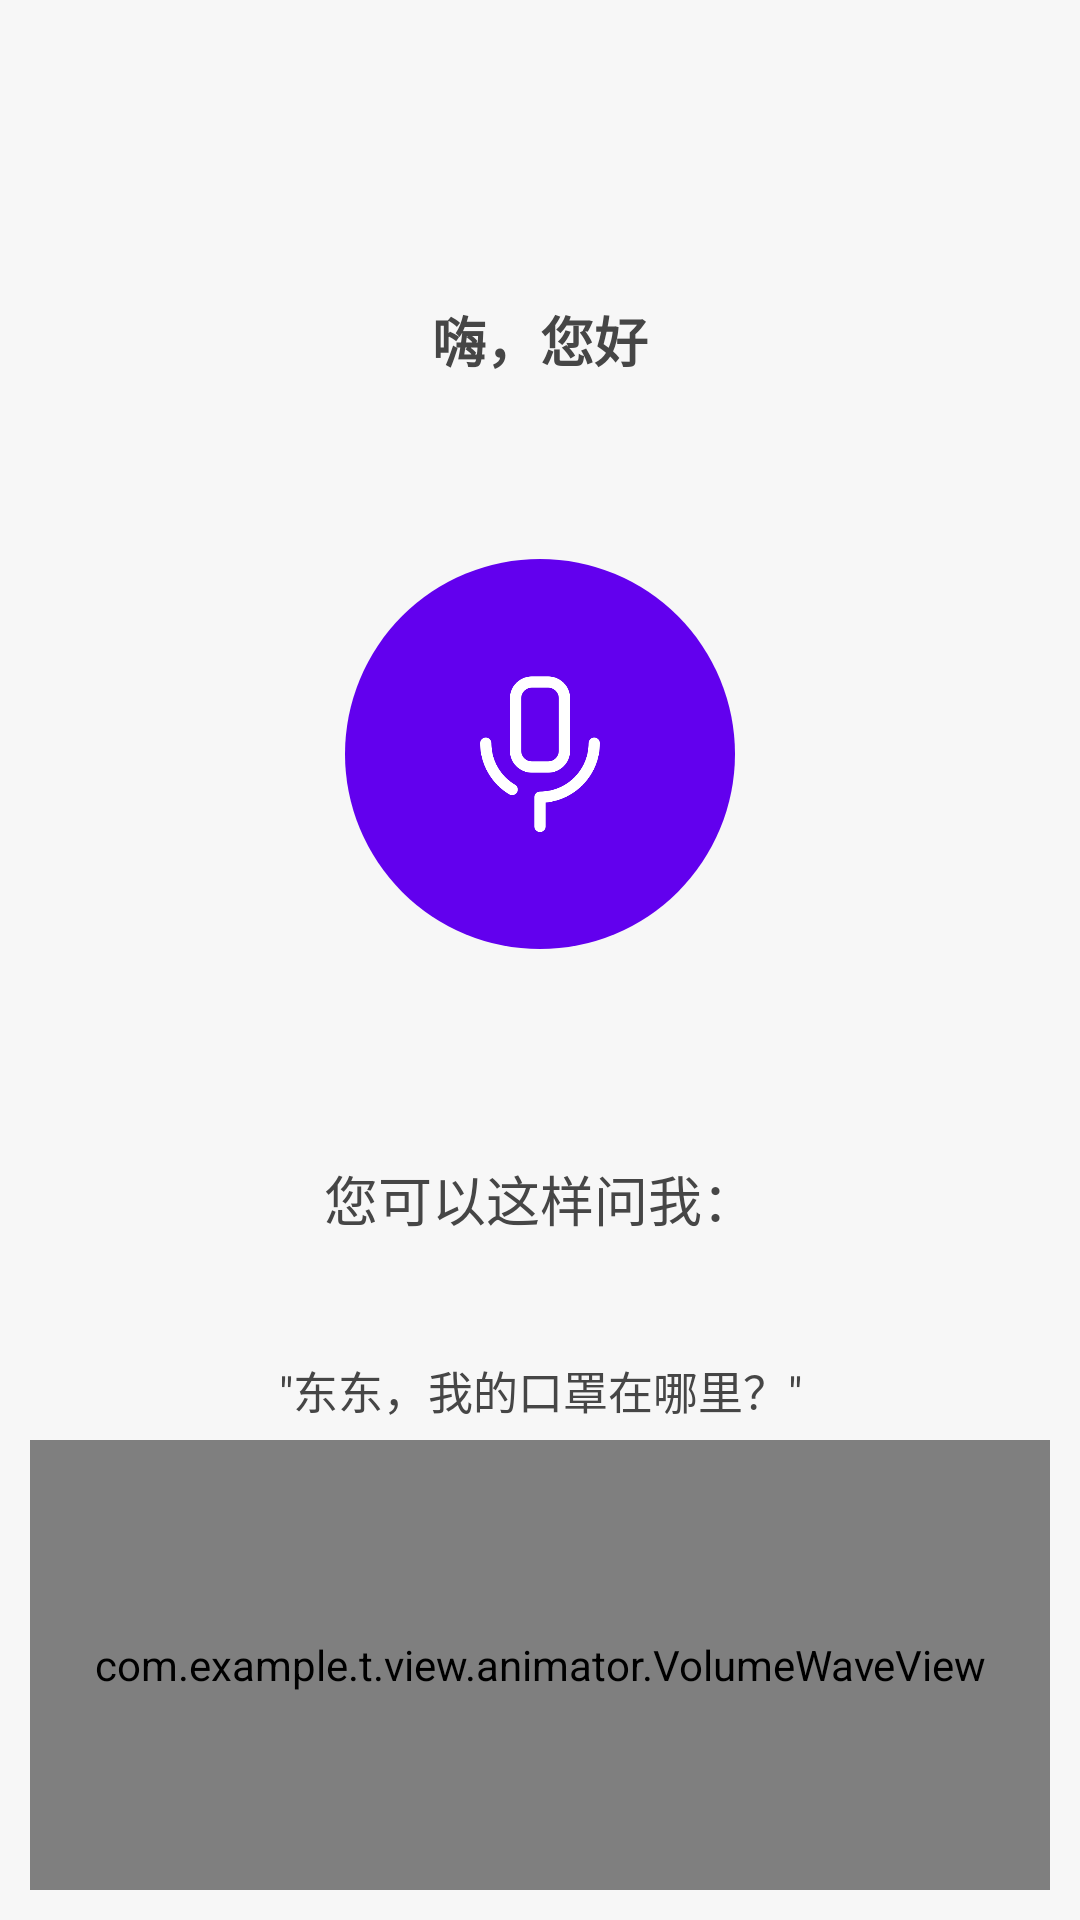

Where to tap for icons on this 1080 x 1920 app screen, as (x,y):
audio: (540,754)
